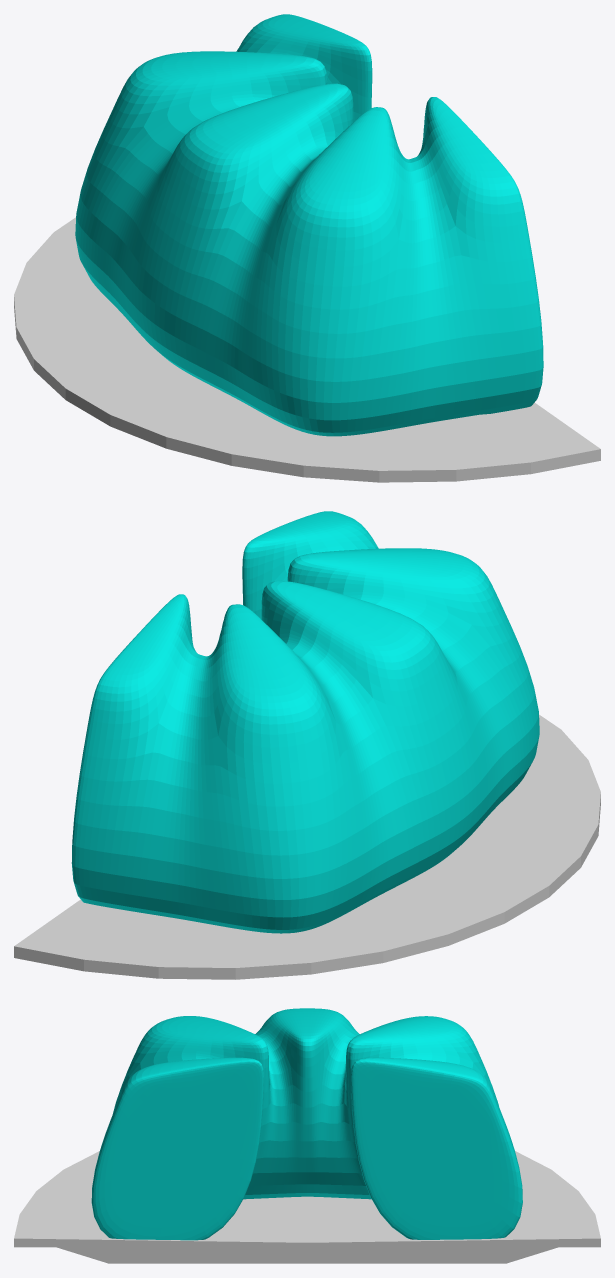
Rendered from JellyLeft.fbx.
3 views of the same model, one above another, from view 1: azimuth 30°, elevation 25°; view 2: azimuth 150°, elevation 25°; view 3: azimuth 270°, elevation 25° (orthographic). The views are drawn at different scales.
Parts seen in each view (by area): view 1: Куб.002, Цилиндр.002; view 2: Куб.002, Цилиндр.002; view 3: Куб.002, Цилиндр.002.
Boxes of the visible parts, x1,y1,x2,y2 form: Куб.002: (75,14,543,436); Цилиндр.002: (14,217,600,482); Куб.002: (71,511,539,933); Цилиндр.002: (14,714,600,979); Куб.002: (91,1008,522,1240); Цилиндр.002: (14,1151,600,1263).
Size of the model in its own units: 272 by 207 by 545.
